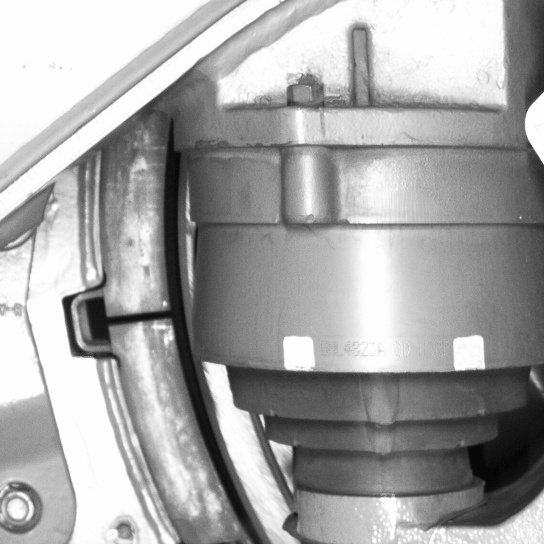KnifeSwitch: (111, 149, 273, 543)
